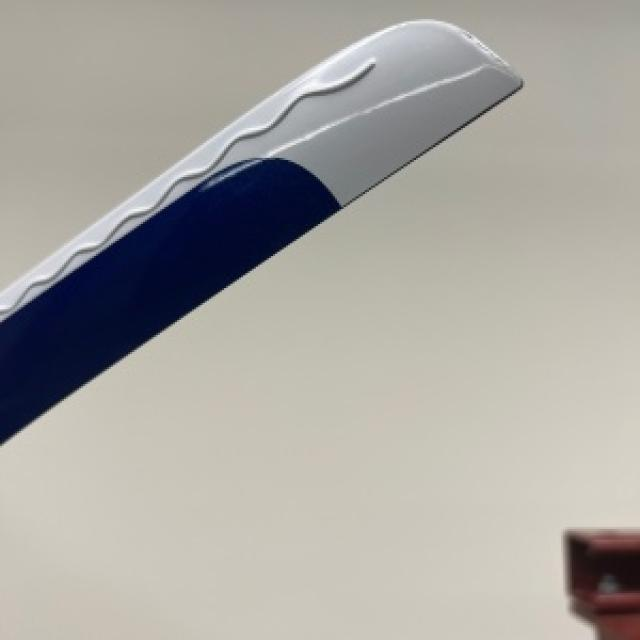healthy: (0, 17, 518, 439)
